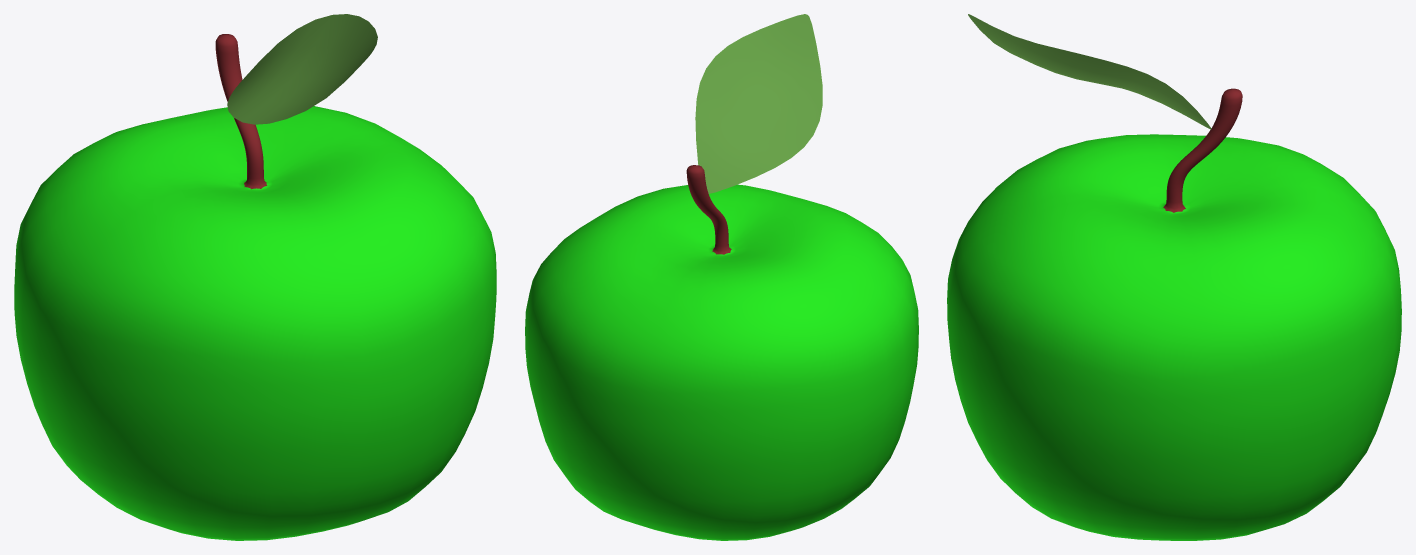
The model's file is Smooth_apple_0_1.fbx.
3 renders of one model, left to right at view 1: azimuth 30°, elevation 25°; view 2: azimuth 150°, elevation 25°; view 3: azimuth 270°, elevation 25°, orthographic. The views are drawn at different scales.
Parts seen in each view (by area): view 1: Smooth_apple_0; view 2: Smooth_apple_0; view 3: Smooth_apple_0.
Part boxes in pixels (x1,y1,x2,y2): Smooth_apple_0: [14, 14, 496, 540]; Smooth_apple_0: [525, 14, 918, 540]; Smooth_apple_0: [947, 14, 1401, 540].
Bounding box in the file's own units: 199 × 231 × 199.
